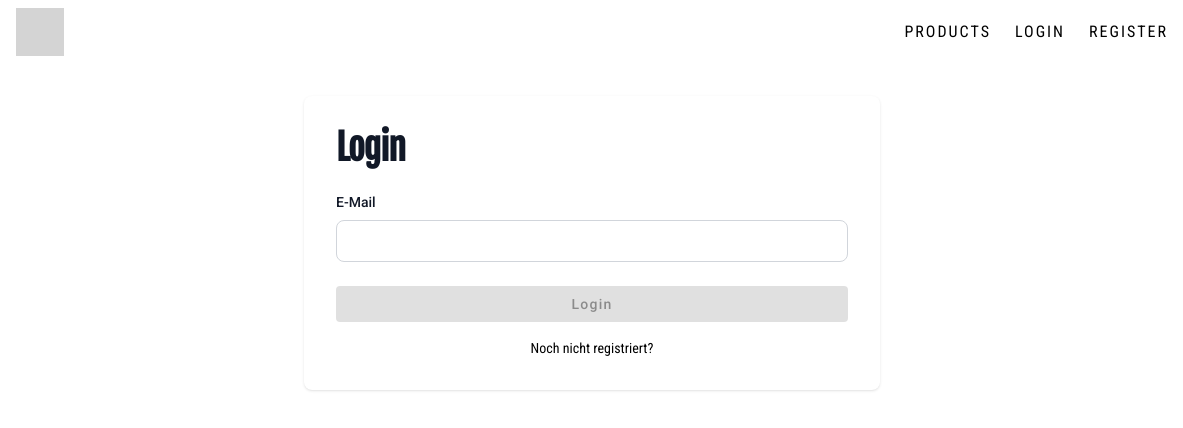
Scenario: Login › Show valdidation errors
Check: the submit button is disabled, box x1=336 y1=286 x2=848 y2=322
Click the field labelled "E-Mail": (592, 241) x1=336 y1=220 x2=848 y2=262
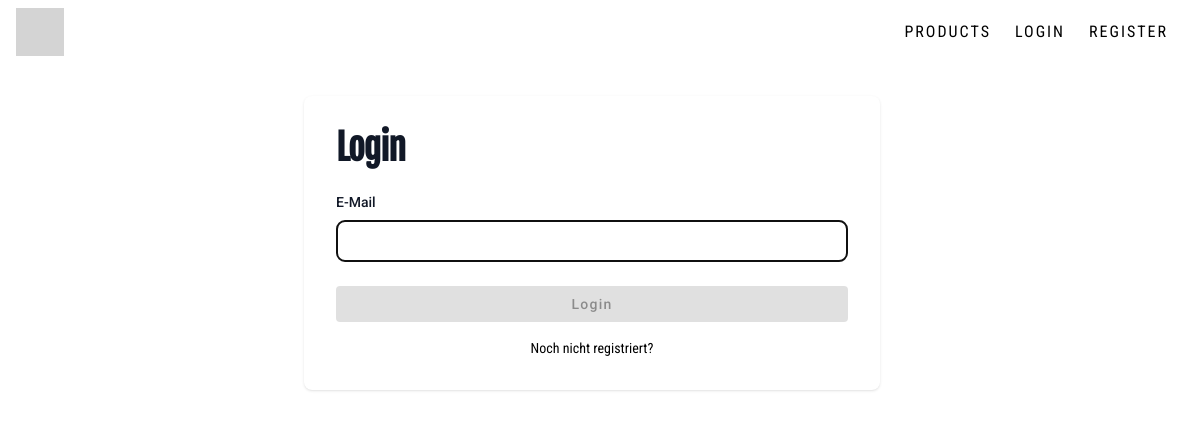
Click the link "Login": (1040, 32) x1=1015 y1=22 x2=1065 y2=41
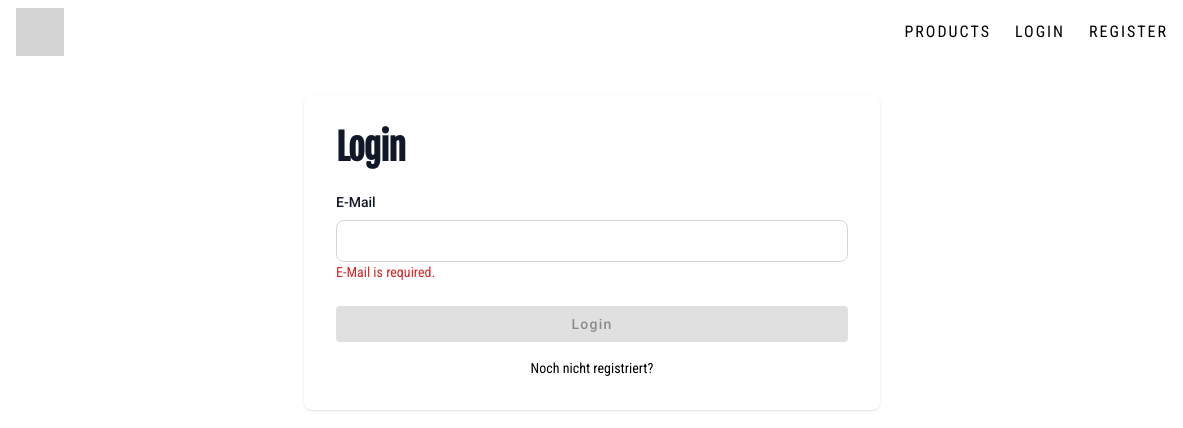
Check: the submit button is disabled, box x1=336 y1=306 x2=848 y2=342
Check: the text "E-Mail is required" is shown, box x1=336 y1=264 x2=435 y2=280
